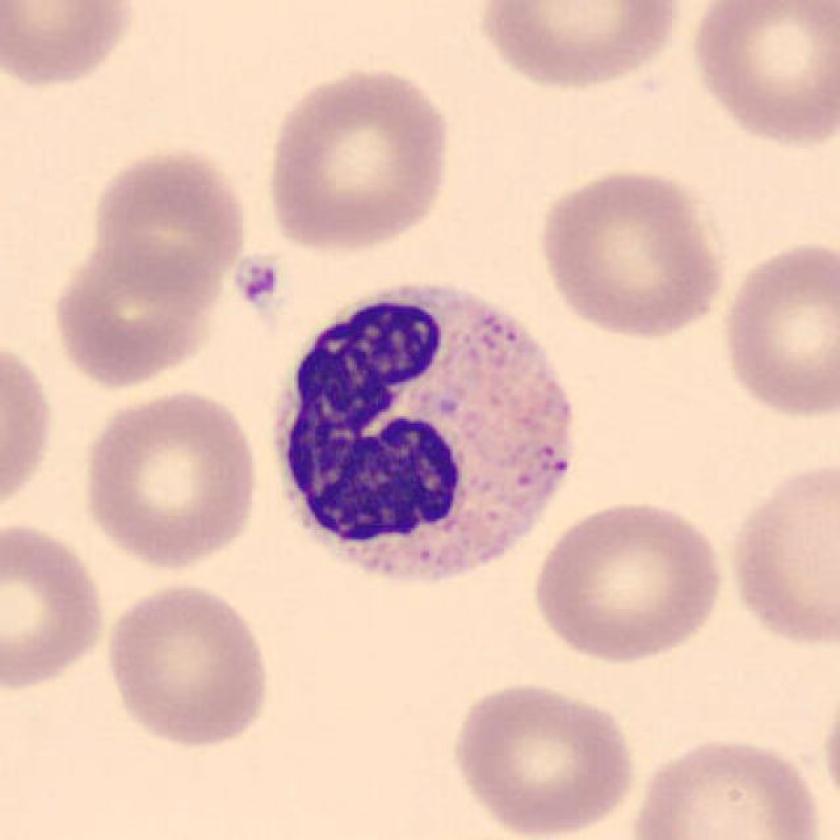neutrophil: (277, 282, 571, 573)
